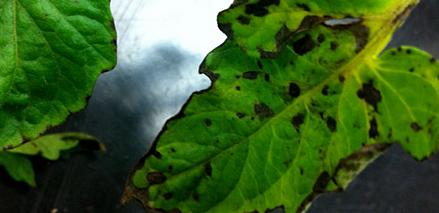Tomato leaf bacterial spot: (120, 0, 439, 213), (0, 0, 129, 194)
